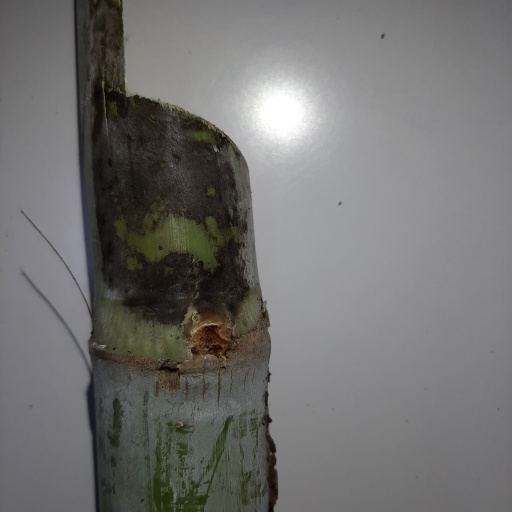Damage_Bud: (185, 318, 235, 362)
